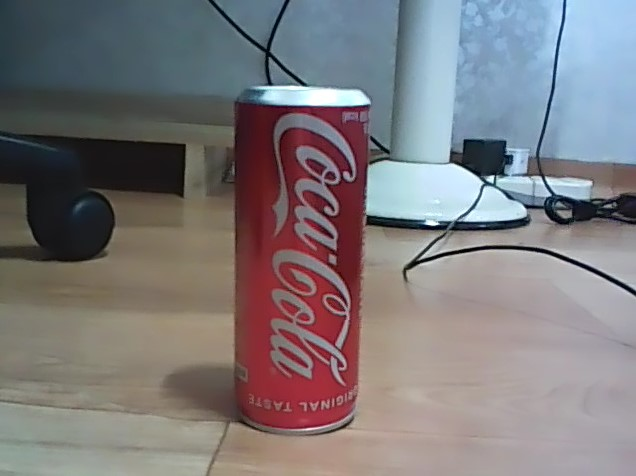Can: (230, 80, 372, 441)
